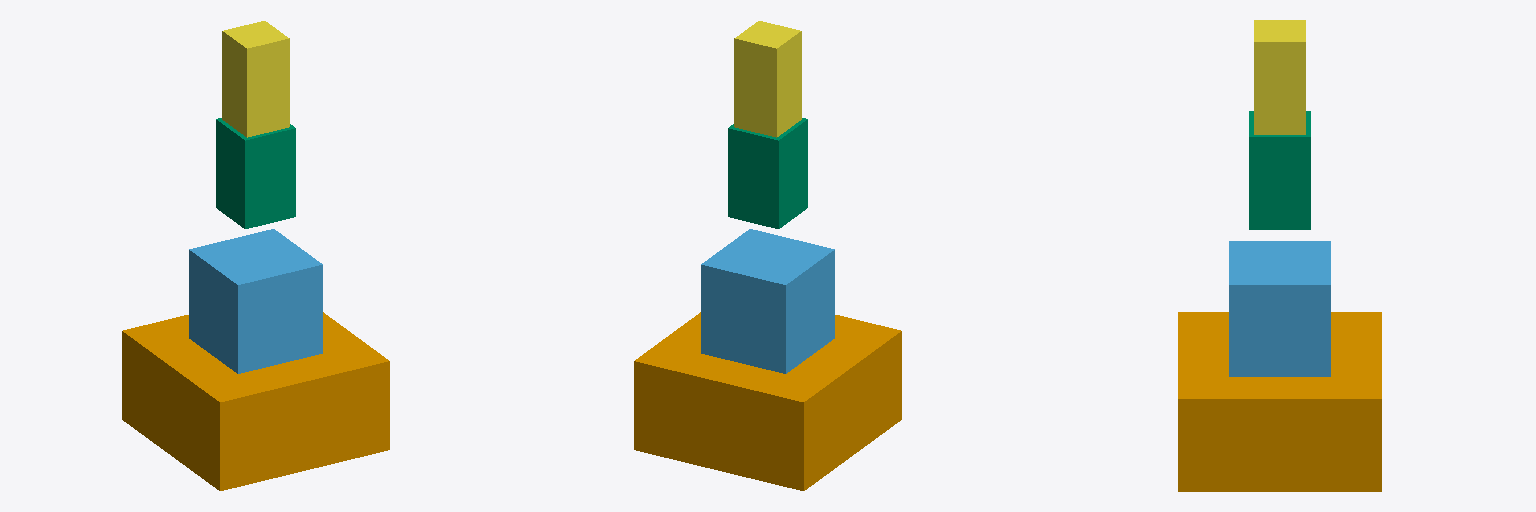
robot.urdf — b_inertial_origin_mass_no_inertia:
<?xml version="1.0"?>
<!--
  Fixture (b): <inertial> with an origin and a mass but no <inertia>.

  Written for urdf-usd-bridge. Not derived from any file in references/.

  Purpose: reproduce two distinct defects from one input.

  1. A body with positive mass and no inertia tensor. Both converter versions
     author physics:mass but leave the rotational inertia undefined, which each
     backend resolves differently (PhysX auto-computes from colliders, MuJoCo
     requires a positive-definite tensor, Newton reads newton:inertia).

  2. urdf-usd-converter 0.3.2 (the version Isaac Sim 6.1.0 pins) authors an
     all-zero physics:principalAxes quaternion for this exact shape of input,
     because apply_inertial() composes origin.rpy onto the (unauthored)
     principal-axes attribute. 0.3.3's CHANGELOG records the fix:
     "Fixed an invalid zero physics:principalAxes authored when <inertial>
      specifies origin and mass but no <inertia>".

  'no_inertia_no_collision_link' additionally has no collision geometry, so
  there is nothing for a backend to auto-compute an inertia tensor from.

  'control_link' is fully specified and must stay clean in every version; it is
  the negative control for the checks above.
-->
<robot name="b_inertial_origin_mass_no_inertia">

  <link name="base_link">
    <inertial>
      <origin xyz="0 0 0" rpy="0 0 0"/>
      <mass value="5.0"/>
      <inertia ixx="0.05" ixy="0" ixz="0" iyy="0.05" iyz="0" izz="0.05"/>
    </inertial>
    <visual>
      <geometry><box size="0.2 0.2 0.1"/></geometry>
    </visual>
    <collision>
      <geometry><box size="0.2 0.2 0.1"/></geometry>
    </collision>
  </link>

  <!-- origin (with a non-identity rpy) + mass, and deliberately no <inertia>. -->
  <link name="no_inertia_link">
    <inertial>
      <origin xyz="0 0 0.1" rpy="0.3 0.2 0.1"/>
      <mass value="10.0"/>
    </inertial>
    <visual>
      <geometry><box size="0.1 0.1 0.2"/></geometry>
    </visual>
    <collision>
      <geometry><box size="0.1 0.1 0.2"/></geometry>
    </collision>
  </link>

  <!-- Same again, but with no collision geometry to fall back on. -->
  <link name="no_inertia_no_collision_link">
    <inertial>
      <origin xyz="0 0 0.05" rpy="0 0 0"/>
      <mass value="2.0"/>
    </inertial>
    <visual>
      <geometry><box size="0.06 0.06 0.1"/></geometry>
    </visual>
  </link>

  <link name="control_link">
    <inertial>
      <origin xyz="0 0 0.05" rpy="0 0 0"/>
      <mass value="1.0"/>
      <inertia ixx="0.004" ixy="0" ixz="0" iyy="0.004" iyz="0" izz="0.001"/>
    </inertial>
    <visual>
      <geometry><box size="0.05 0.05 0.1"/></geometry>
    </visual>
    <collision>
      <geometry><box size="0.05 0.05 0.1"/></geometry>
    </collision>
  </link>

  <joint name="j_base_to_no_inertia" type="revolute">
    <parent link="base_link"/>
    <child link="no_inertia_link"/>
    <origin xyz="0 0 0.05" rpy="0 0 0"/>
    <axis xyz="0 1 0"/>
    <limit lower="-1.0" upper="1.0" effort="20.0" velocity="1.0"/>
  </joint>

  <joint name="j_no_inertia_to_no_collision" type="revolute">
    <parent link="no_inertia_link"/>
    <child link="no_inertia_no_collision_link"/>
    <origin xyz="0 0 0.2" rpy="0 0 0"/>
    <axis xyz="1 0 0"/>
    <limit lower="-0.5" upper="0.5" effort="5.0" velocity="1.0"/>
  </joint>

  <joint name="j_no_collision_to_control" type="revolute">
    <parent link="no_inertia_no_collision_link"/>
    <child link="control_link"/>
    <origin xyz="0 0 0.1" rpy="0 0 0"/>
    <axis xyz="0 0 1"/>
    <limit lower="-2.0" upper="2.0" effort="10.0" velocity="1.0"/>
  </joint>

</robot>

--- Facts derived from the render (not from the file) ---
3 views of the same robot in one strip: view 1: azimuth 30°, elevation 25°; view 2: azimuth 150°, elevation 25°; view 3: azimuth 270°, elevation 25° (orthographic).
Model b_inertial_origin_mass_no_inertia with 4 links and 3 joints (3 revolute), rooted at base_link, posed all joints at 0.
Links seen in each view (by area): view 1: base_link, no_inertia_link, no_inertia_no_collision_link, control_link; view 2: base_link, no_inertia_link, no_inertia_no_collision_link, control_link; view 3: base_link, no_inertia_link, no_inertia_no_collision_link, control_link.
Link boxes in pixels (<box>): base_link: <box>122,312,389,490</box>; no_inertia_link: <box>189,229,322,373</box>; no_inertia_no_collision_link: <box>216,118,295,228</box>; control_link: <box>222,21,289,137</box>; base_link: <box>634,312,901,490</box>; no_inertia_link: <box>701,229,834,373</box>; no_inertia_no_collision_link: <box>728,118,807,228</box>; control_link: <box>734,21,801,137</box>; base_link: <box>1178,312,1381,491</box>; no_inertia_link: <box>1229,241,1330,376</box>; no_inertia_no_collision_link: <box>1249,111,1310,229</box>; control_link: <box>1254,20,1305,134</box>.
Size in the robot's own frame: 0.2 by 0.2 by 0.45 metres.
Geometry: primitives only (box / cylinder / sphere), no mesh files.
